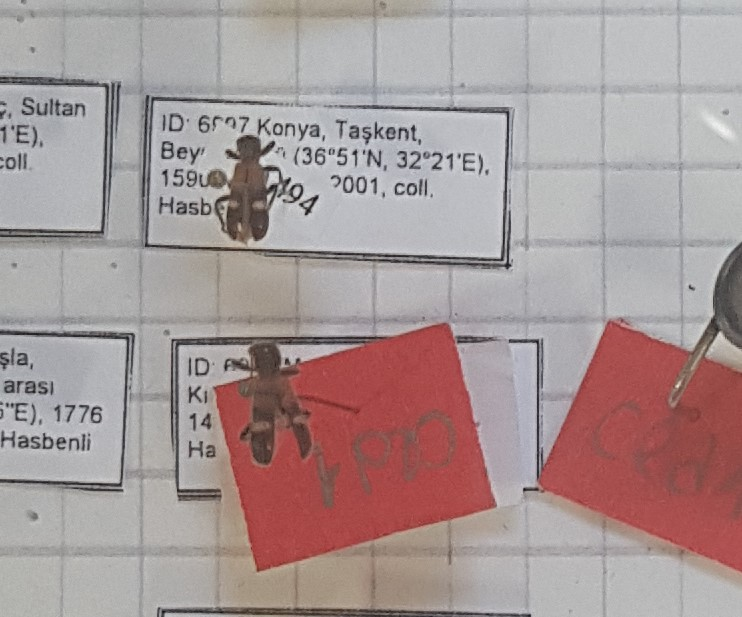opilo_taeniatus: (232, 336, 321, 469), (217, 128, 277, 244)
